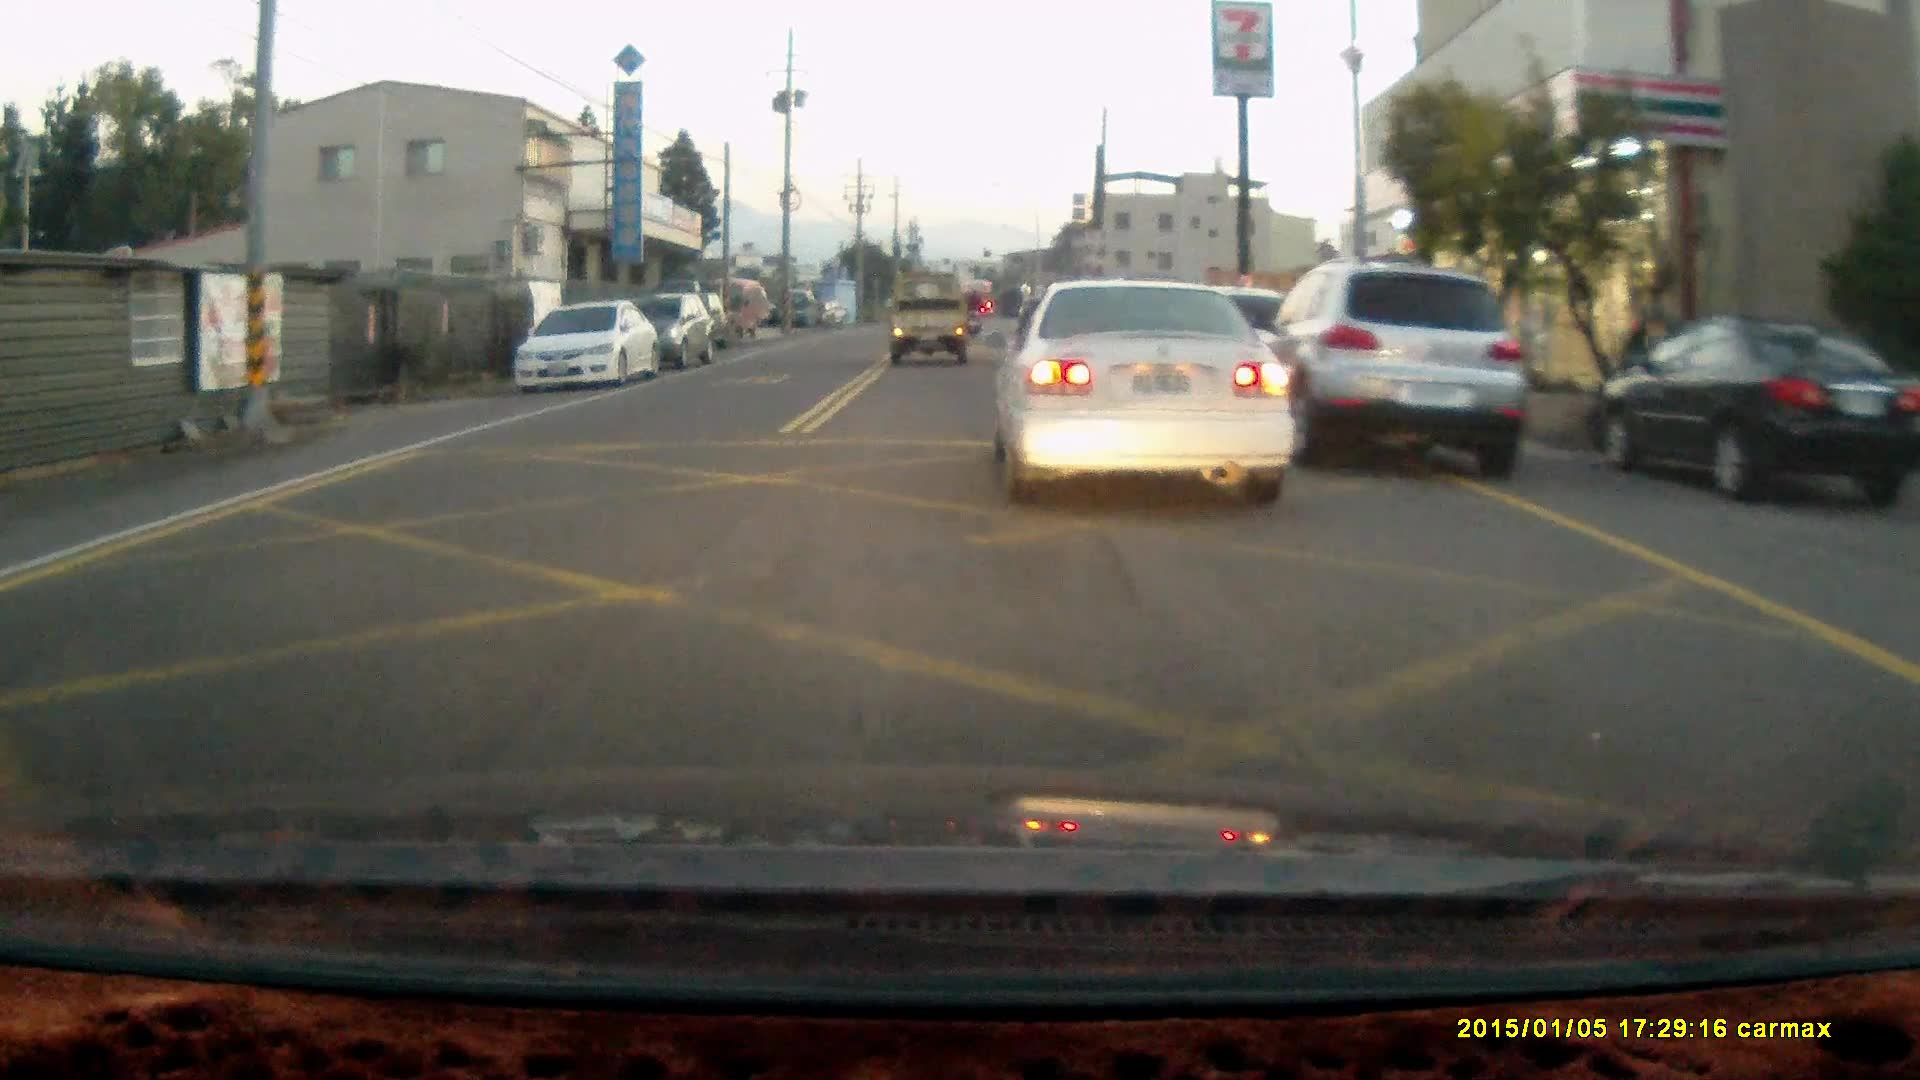rider: (959, 286, 985, 338)
vehicle: (988, 276, 1295, 497), (1246, 263, 1533, 482), (1589, 319, 1916, 503), (506, 295, 665, 394), (885, 278, 972, 367), (627, 295, 710, 373)
